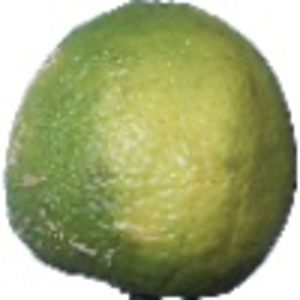limão: (2, 1, 300, 300)
